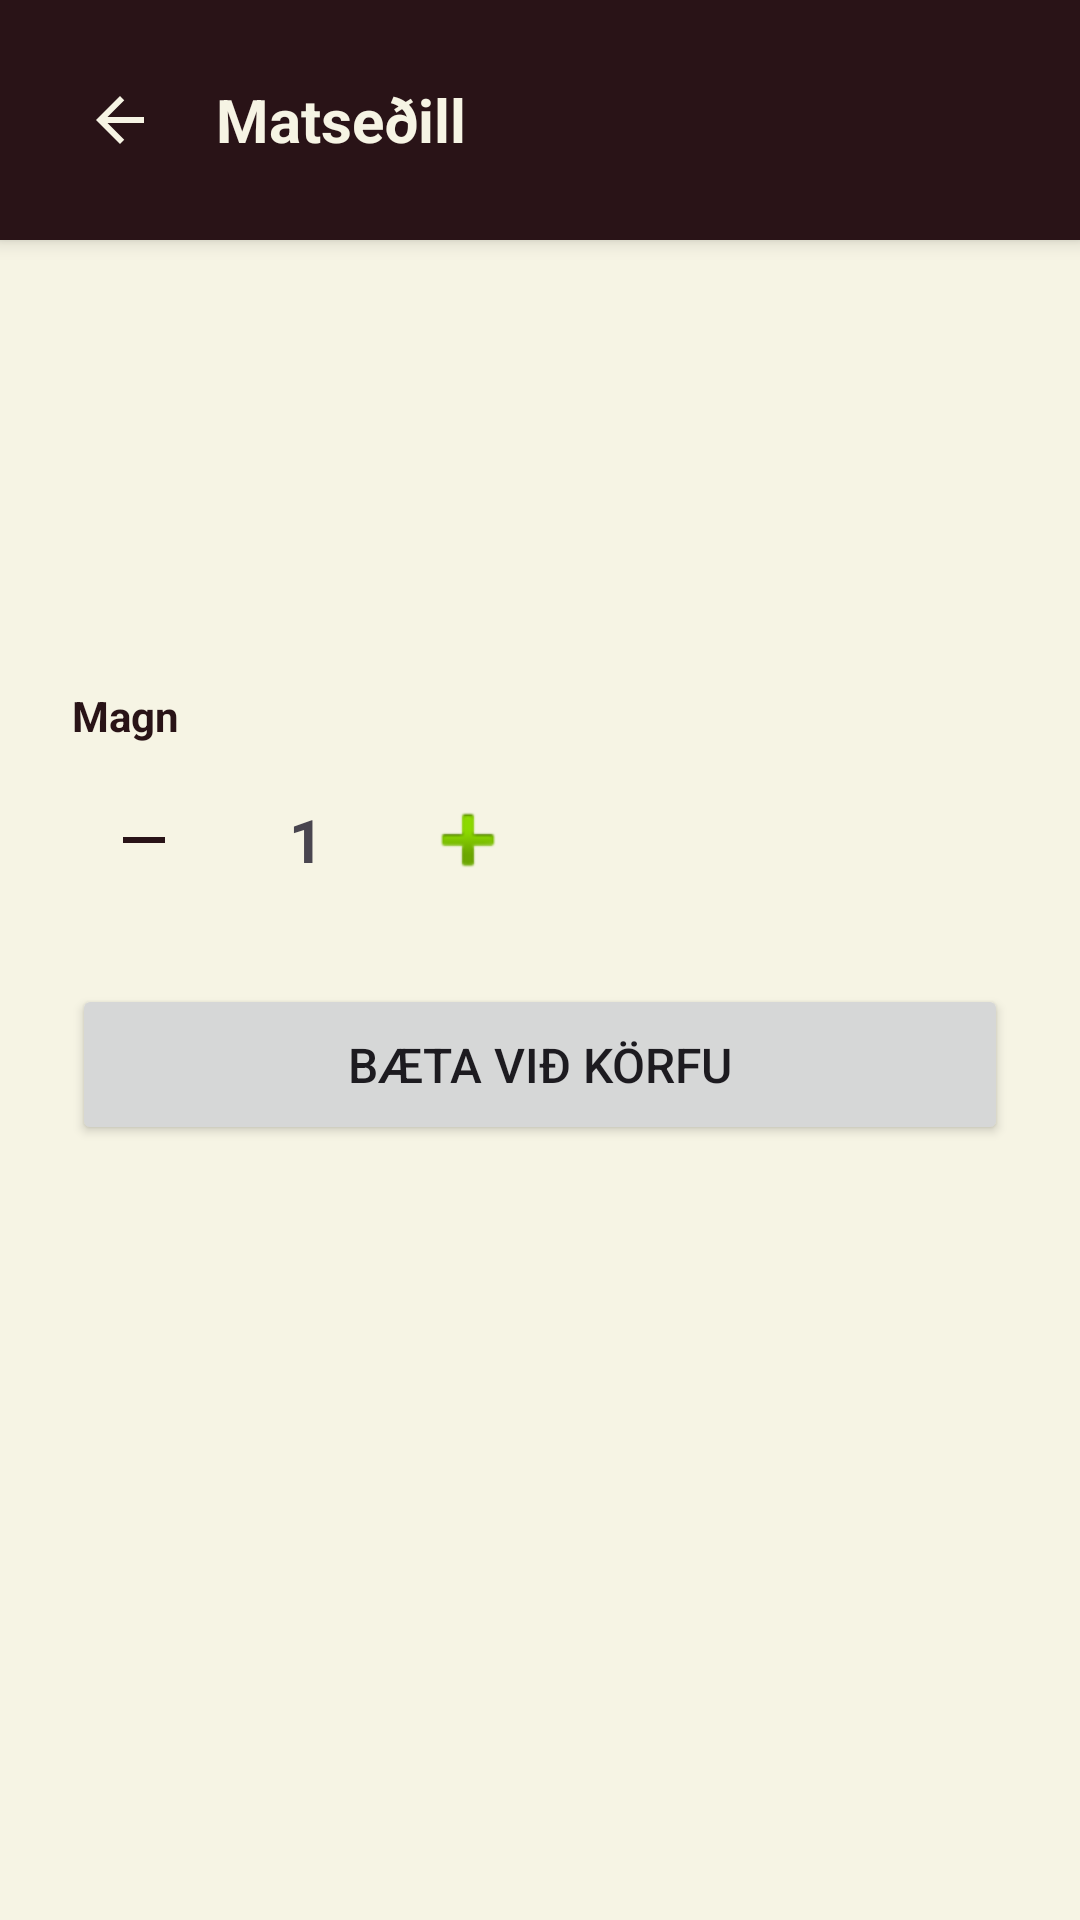

Named icons in this screenshot (1080*1920) and their centers, [x,y]:
add: [468,840]
Til baka: [120,120]
